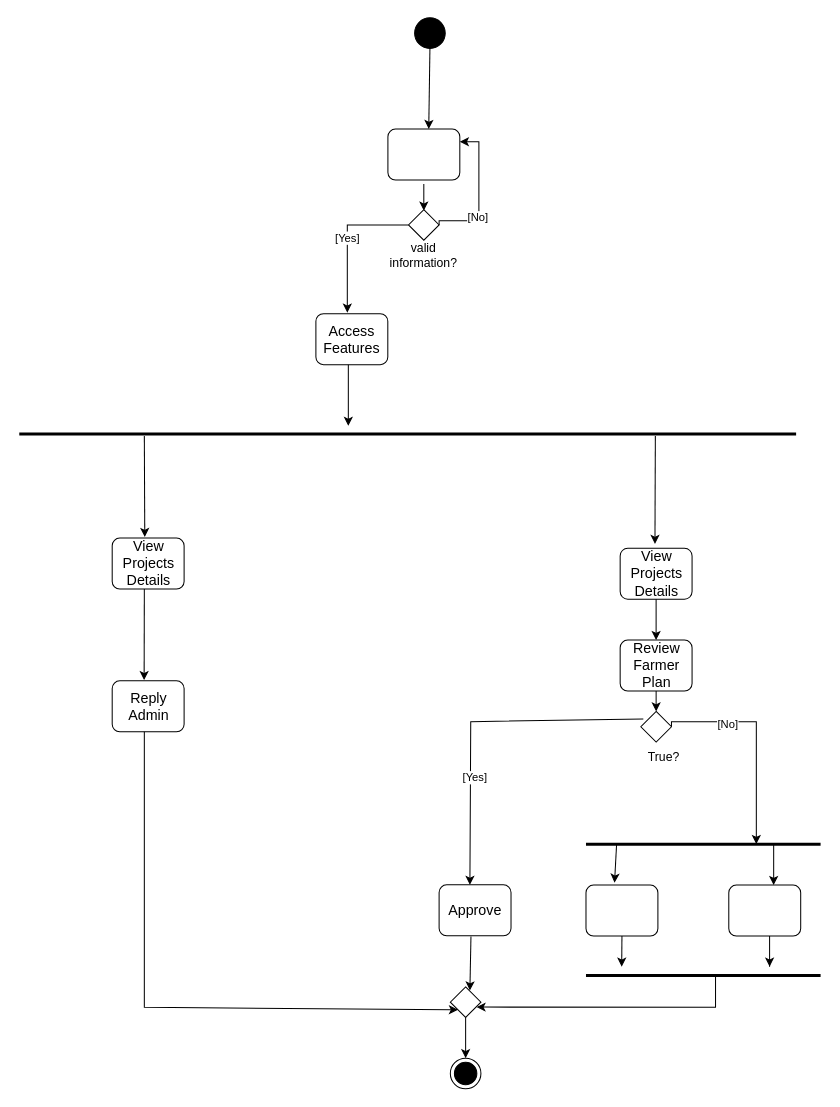
This 840x1107 diagram has some shape labels left out. The centre of each missing label's shape, as x and y in pixels:
"Ask to Edit" goes at point 621,910.
"Login" goes at point 423,154.
"Reject" goes at point 764,910.
